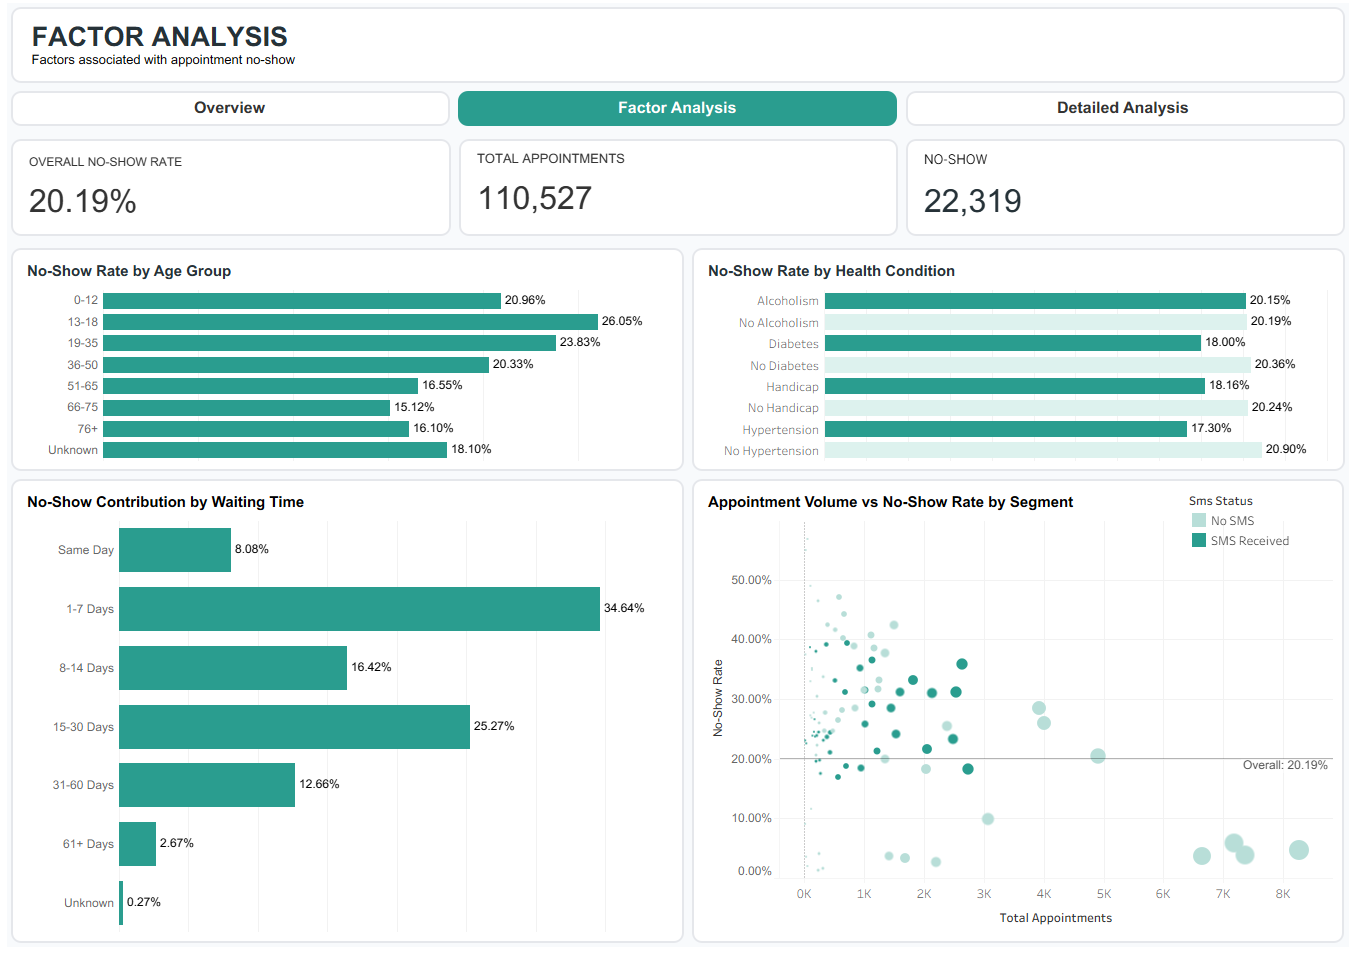

The dashboard page shown, as its layout file describes it:
{"tool":"tableau","page":{"name":"Factor Analysis","canvas":[1366,968],"ordinal":1},"visuals":[{"type":"text","box":[12,12,1342,84.4]},{"type":"dashboard-object","box":[12,96.4,447.2,43.5]},{"type":"dashboard-object","box":[459.2,96.4,447.3,43.5]},{"type":"dashboard-object","box":[906.5,96.4,447.5,43.5]},{"type":"worksheet","title":"KPI - Overall Rate","mark":"Automatic","box":[12,144,448,105]},{"type":"worksheet","title":"KPI - Total Appointments","mark":"Automatic","box":[460,144,447,105]},{"type":"worksheet","title":"KPI - No Show","mark":"Automatic","box":[907,144,447,105]},{"type":"worksheet","title":"Chart - Factor Age","mark":"Bar","rows":["age_group"],"cols":["Calculation_0297463918501891"],"box":[12,252.9,681,231]},{"type":"worksheet","title":"Chart - Factor Health","mark":"Automatic","box":[693,252.9,661,231]},{"type":"worksheet","title":"Chart - Waiting Contribution","mark":"Bar","rows":["waiting_group"],"box":[12,483.9,681.5,472]},{"type":"worksheet","title":"Chart - Risk Segment","mark":"Circle","rows":["Calculation_0297463918501891"],"cols":["Calculation_0297463917125632"],"box":[693.5,483.9,660.5,472]},{"type":"legend","title":"Chart - Risk Segment","param":"[federated.0codjcv1dexsxq13891wl0rhwwvl].[none:sms_status:nk]","box":[1194,501,140,58]}]}

Visuals, with their boxes in screenshot pixels (x1, y1, x2, y2), scaled from the page's 1366x968 canvas onto the 1355x954 screenshot:
text: 12 12 1343 95
dashboard-object: 12 95 456 138
dashboard-object: 456 95 899 138
dashboard-object: 899 95 1343 138
"KPI - Overall Rate" worksheet: 12 142 456 245
"KPI - Total Appointments" worksheet: 456 142 900 245
"KPI - No Show" worksheet: 900 142 1343 245
"Chart - Factor Age" worksheet (Bar marks): 12 249 687 477
"Chart - Factor Health" worksheet: 687 249 1343 477
"Chart - Waiting Contribution" worksheet (Bar marks): 12 477 688 942
"Chart - Risk Segment" worksheet (Circle marks): 688 477 1343 942
"Chart - Risk Segment" legend: 1184 494 1323 551
